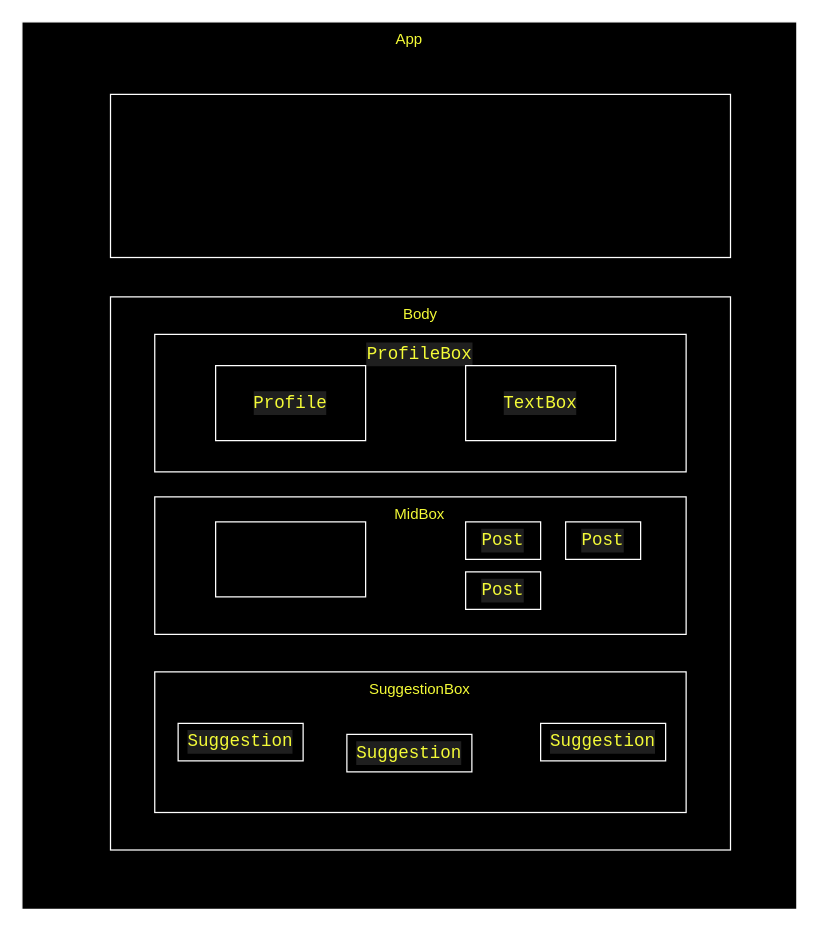
This 819x931 diagram has some shape labels left out. The shapes that lost their labels are listed below. From the top down, each one's centre as x and y in pixels, then its label:
At point 419,175: "Header".
At point 290,559: "Search".
